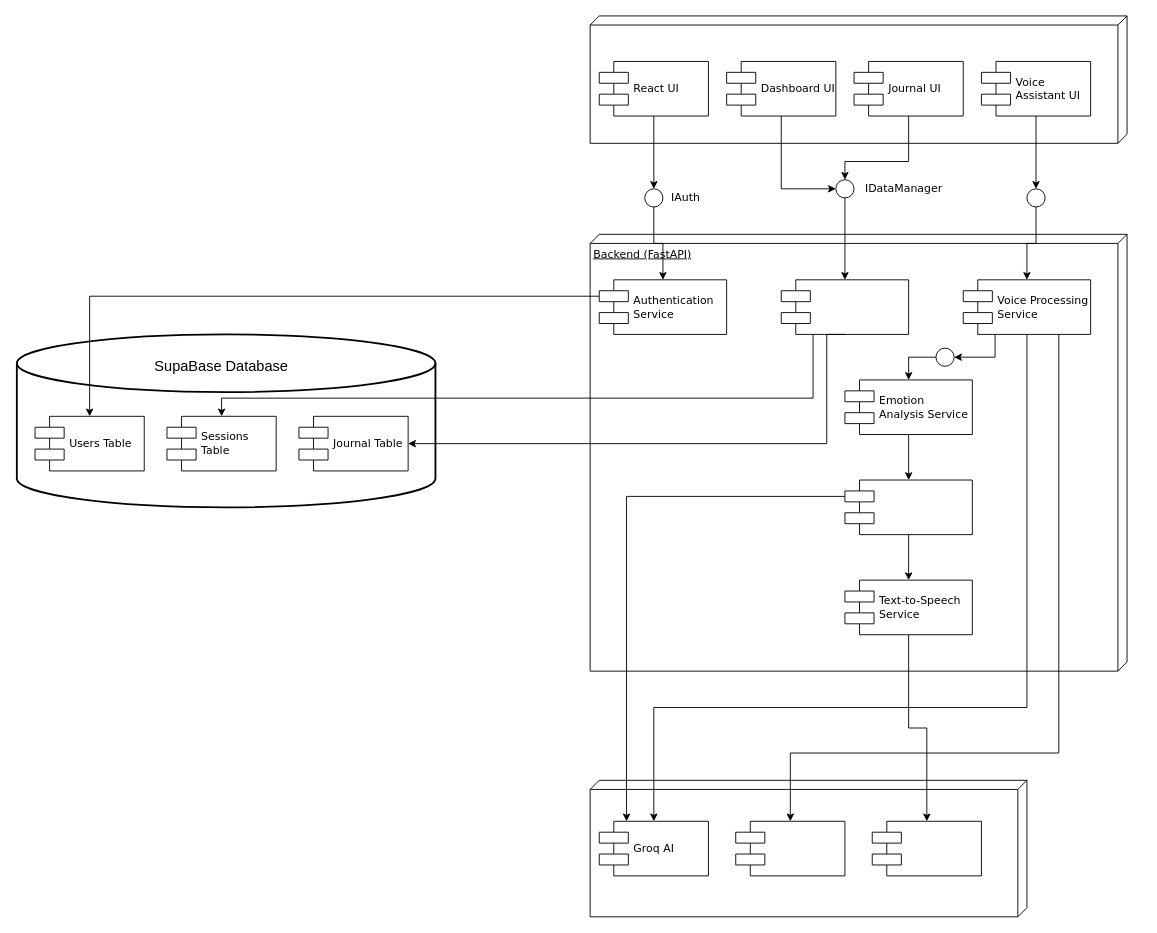
Image size: 1157x933. Some labels were removed from this diagram. The shapes that lost their labels are listed below. From the top down, each one's box as (x1, y1, x2, y2) in pixels, then its label:
(589, 15, 1127, 143): Frontend
(1026, 188, 1045, 207): IVoiceProcessor
(780, 279, 909, 334): Session Management Service
(935, 347, 954, 366): IEmotionAnalyzer
(844, 479, 972, 535): AI Response Service
(735, 820, 845, 876): OpenAI
(589, 779, 1027, 917): AI Providers
(871, 820, 981, 876): ElevenLabs
